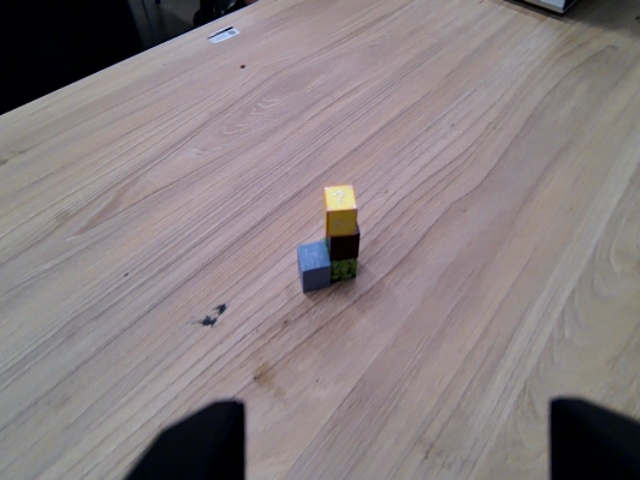brick: (324, 229, 362, 260)
grass: (327, 258, 360, 282)
lucky: (323, 185, 359, 231)
stone: (294, 242, 329, 292)
